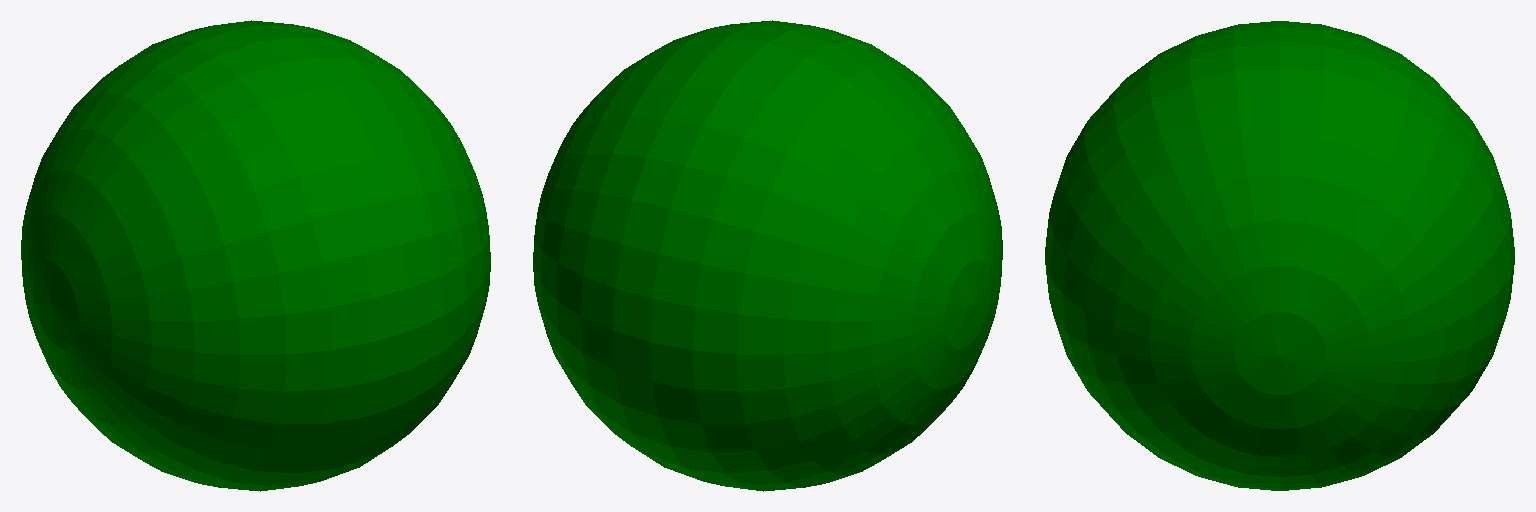
URDF robot description (screwdriver_new):
<?xml version="1.0" ?>
<robot name="screwdriver_new">
  <link name="baseLink">
  </link>
  <link name="screwdriver">
    <visual>
      <origin rpy="0 0 0" xyz="0 0 0"/>
      <geometry>
			<mesh filename="screwdriver/mesh/screwdriver.stl" scale="0.001 0.001 0.001"/>
      </geometry>
       <material name="grey">
        <color rgba="0.5 0.5 0.5 1.0"/>
      </material>
    </visual>
		<collision>
      <origin rpy="0 0 0" xyz="0 0 0"/>
      <geometry>
			<mesh filename="screwdriver/mesh/screwdriver.stl" scale="0.001 0.001 0.001"/>
      </geometry>
      <material name="white"/>
    </collision>
	</link>
  <link name="tcp">
    <visual>
        <origin xyz="0 0 0.0" rpy="0 0 0"/>
        <geometry>
           <sphere radius="0.005"/>
        </geometry>
        <material name="black">
            <color rgba="0.0 0.5 0.0 1.0"/>
        </material>
    </visual>
  </link>
    
  <joint name="screwdriver_joint" type="fixed">
		<parent link="baseLink"/>
		<child link="screwdriver"/>
		<origin rpy="0 0 1.5707963267948966" xyz="0 0 -0.0525"/>
  </joint>
  
  <joint name="gripping_trafo" type="fixed">
		<parent link="screwdriver"/>
		<child link="tcp"/>
		<origin xyz="0.0 0.218 -0.033" rpy="1.5707963267948966 3.1415926535897932 0"/>
  </joint>
</robot>

--- Facts derived from the render (not from the file) ---
3 views of the same robot in one strip: view 1: azimuth 30°, elevation 25°; view 2: azimuth 150°, elevation 25°; view 3: azimuth 270°, elevation 25° (orthographic).
Robot: screwdriver_new — 3 links, 2 joints (2 fixed); root link baseLink; default pose: all joints at 0.
Links seen in each view (by area): view 1: tcp; view 2: tcp; view 3: tcp.
Link boxes in pixels (x1,y1,x2,y2): tcp: (21, 20, 490, 491); tcp: (533, 20, 1002, 491); tcp: (1045, 21, 1514, 490).
Size in the robot's own frame: 0.01 by 0.01 by 0.01 metres.
Meshes: 1 distinct files referenced, 0 mesh visuals loaded (none loaded); not drawn: 1 (file found but could not be loaded).
